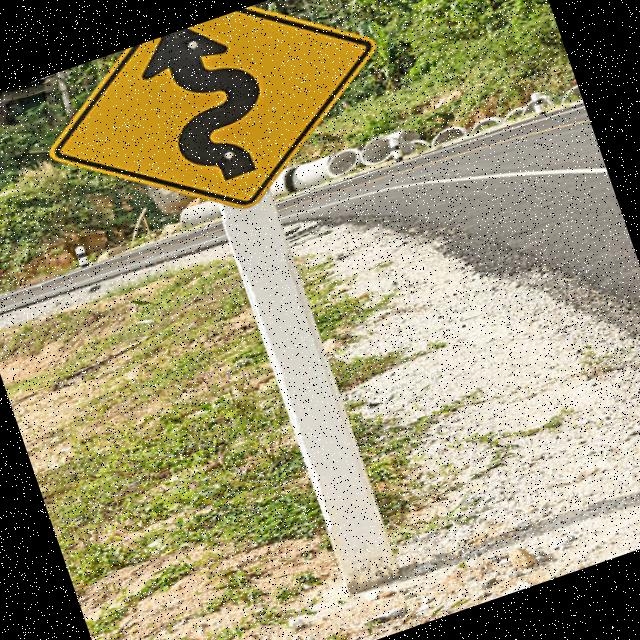left_sharp_curve: (0, 0, 419, 269)
